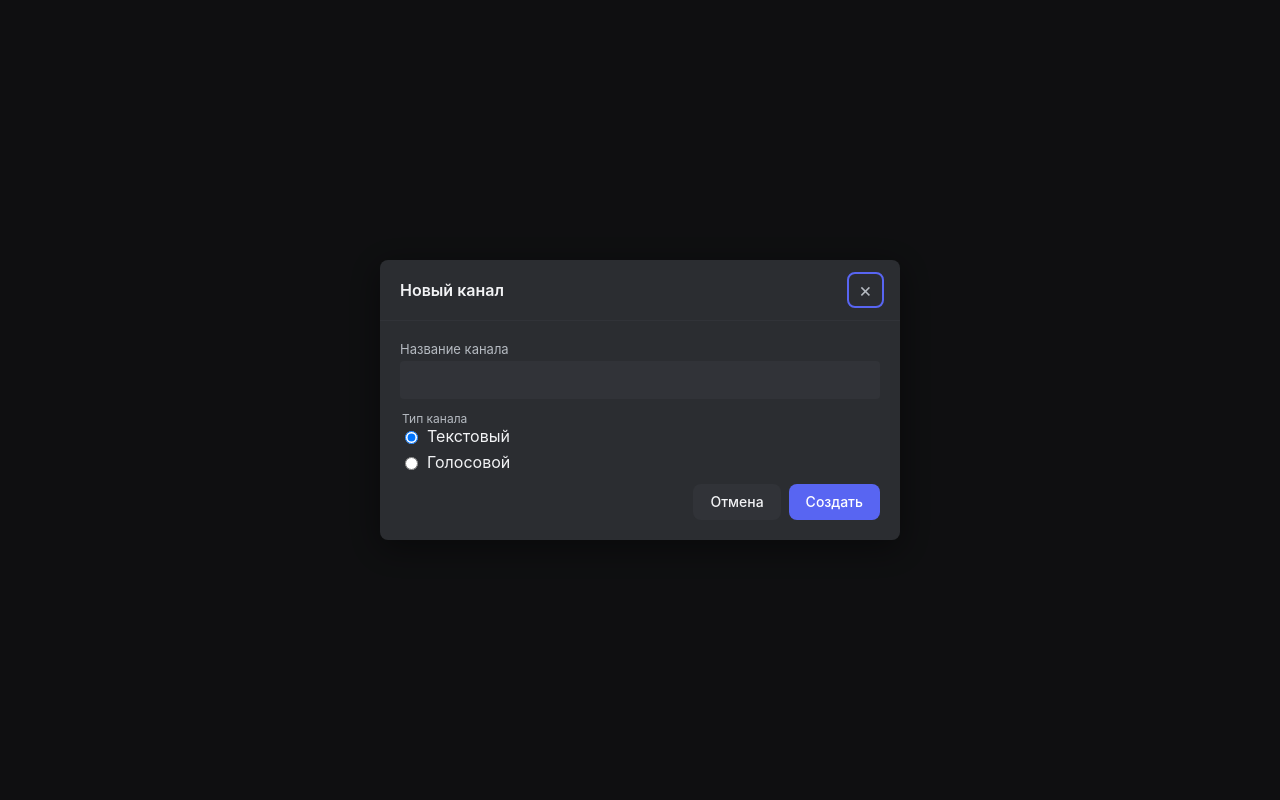
Test case: <CreateChannelModal /> › zod-валидация: пустое имя → inline error
Click the button "Создать" at (834, 502), box [789,484,880,520]
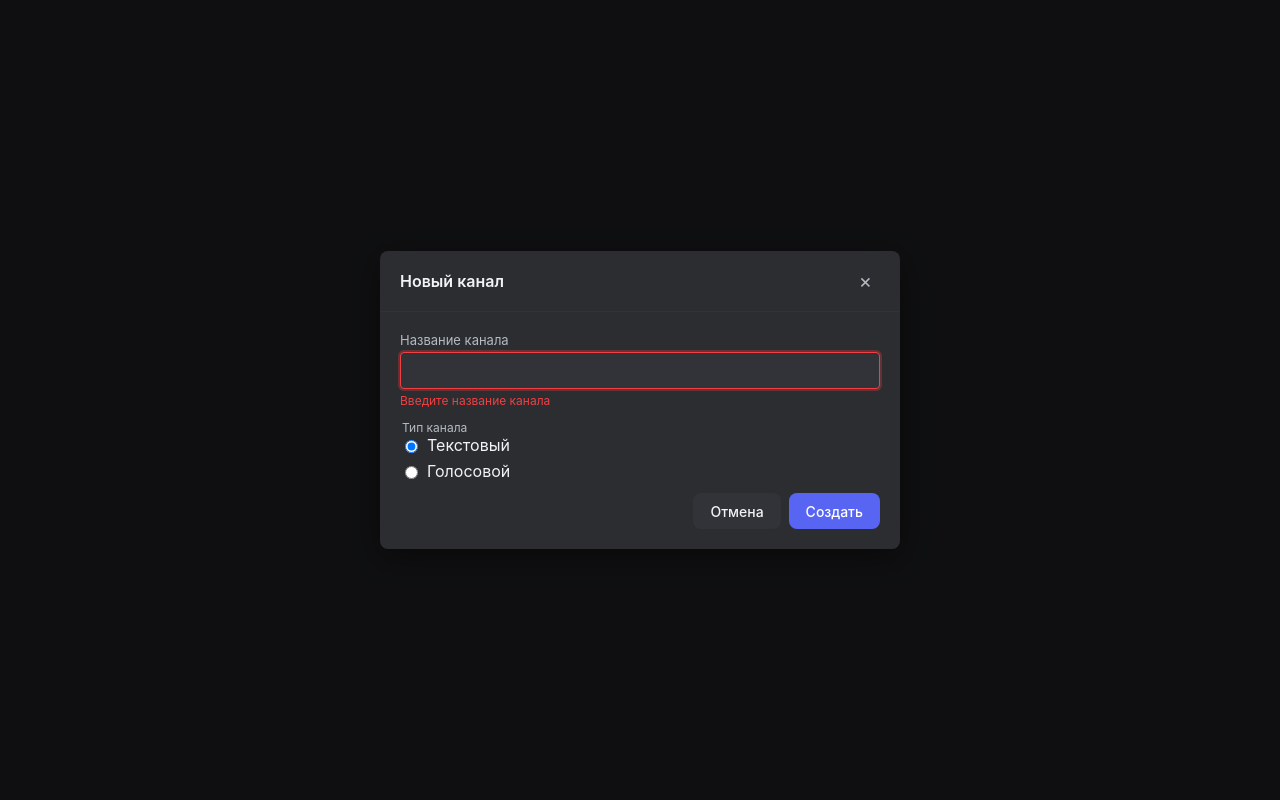
Expected: the text "Введите название канала" is shown, [400,393,550,408]
